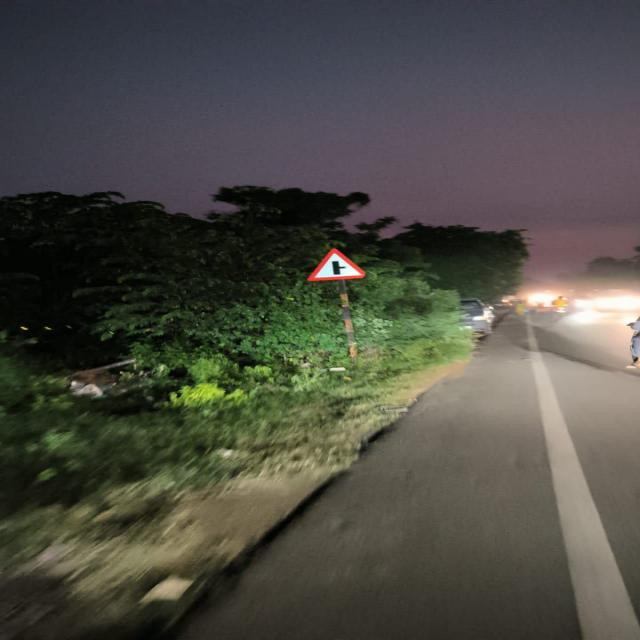Sideroad_toright: (307, 248, 366, 281)
